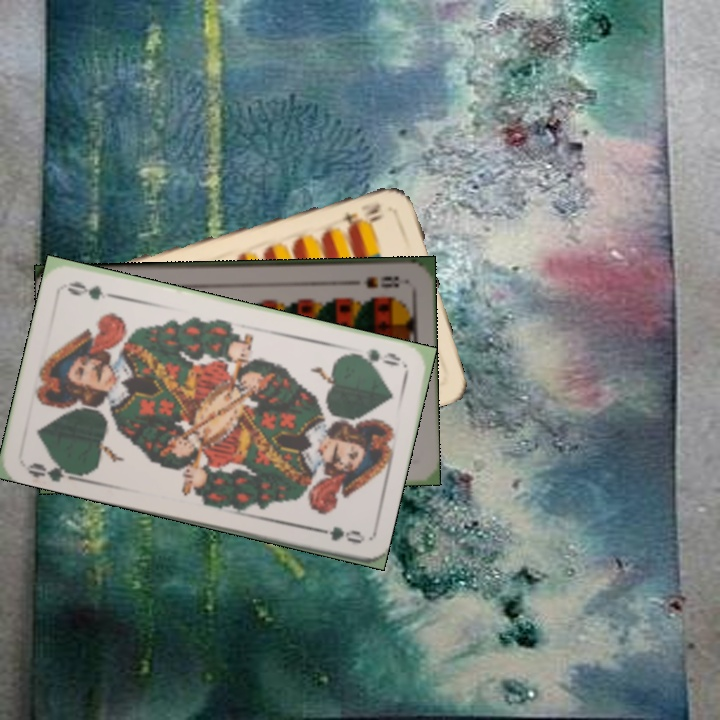E10: (337, 198, 383, 231)
GO: (22, 454, 81, 484), (347, 344, 403, 369)
S8: (360, 271, 401, 291)
